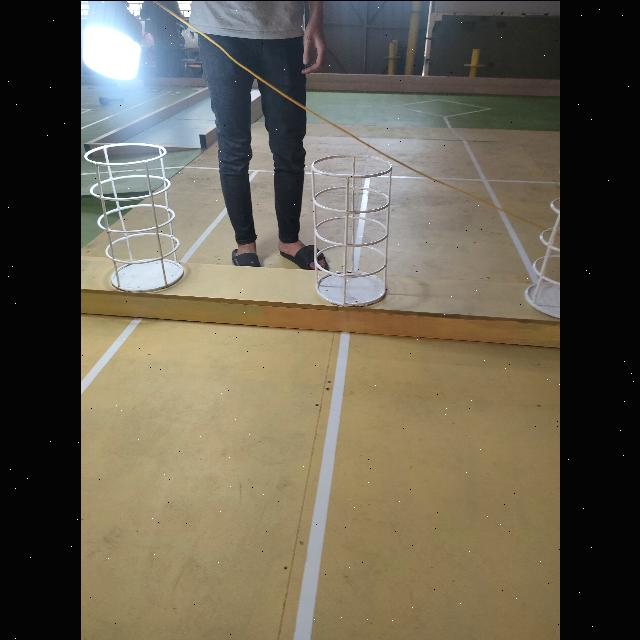S: (82, 139, 187, 297), (309, 148, 391, 307), (521, 168, 560, 321)
